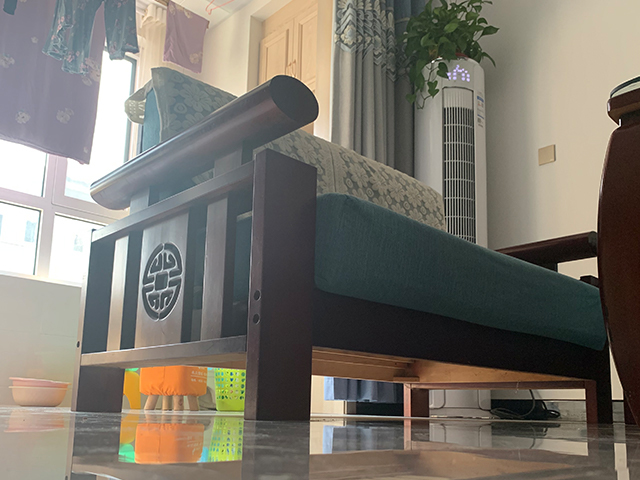sofa: (70, 66, 615, 427)
stool: (138, 364, 207, 412)
trashcan: (212, 367, 246, 412)
wire: (489, 389, 563, 421)
